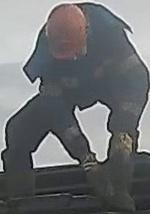gloves: (107, 122, 136, 168), (76, 149, 103, 172)
helmet: (43, 1, 89, 62)
vest: (34, 4, 127, 109)
